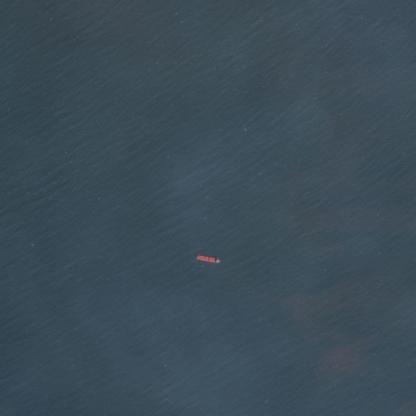ship: (188, 249, 224, 268)
